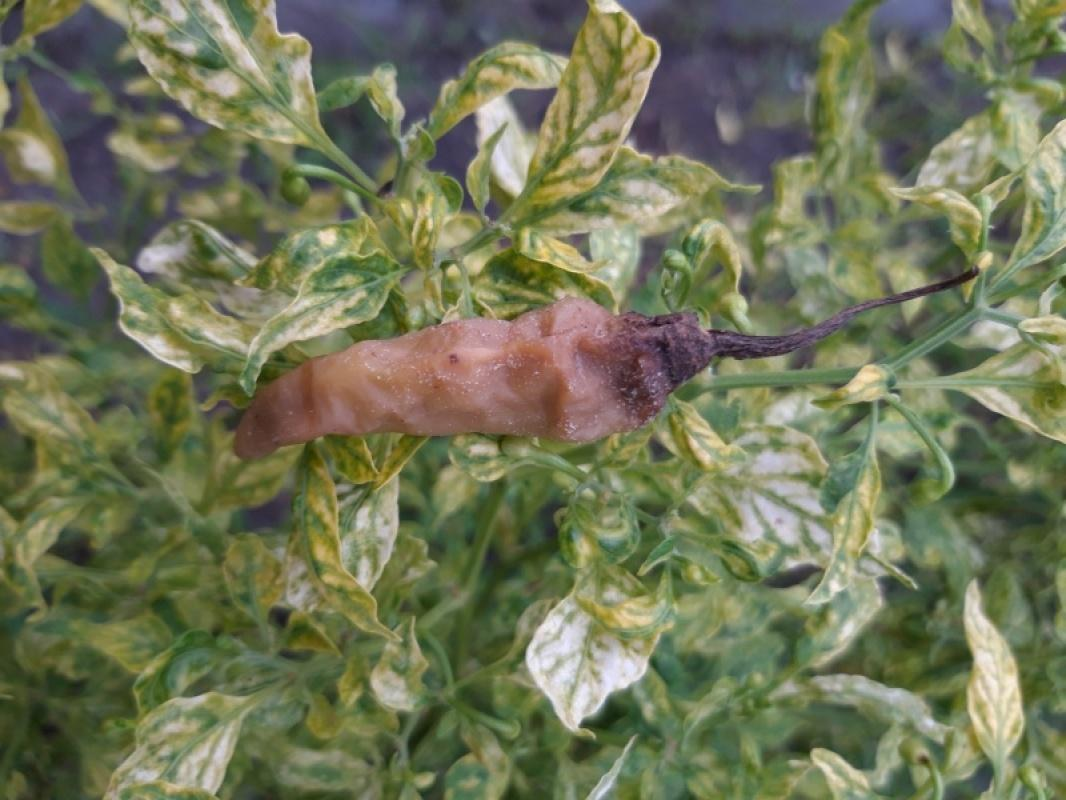lalat_buah: (232, 291, 710, 463)
